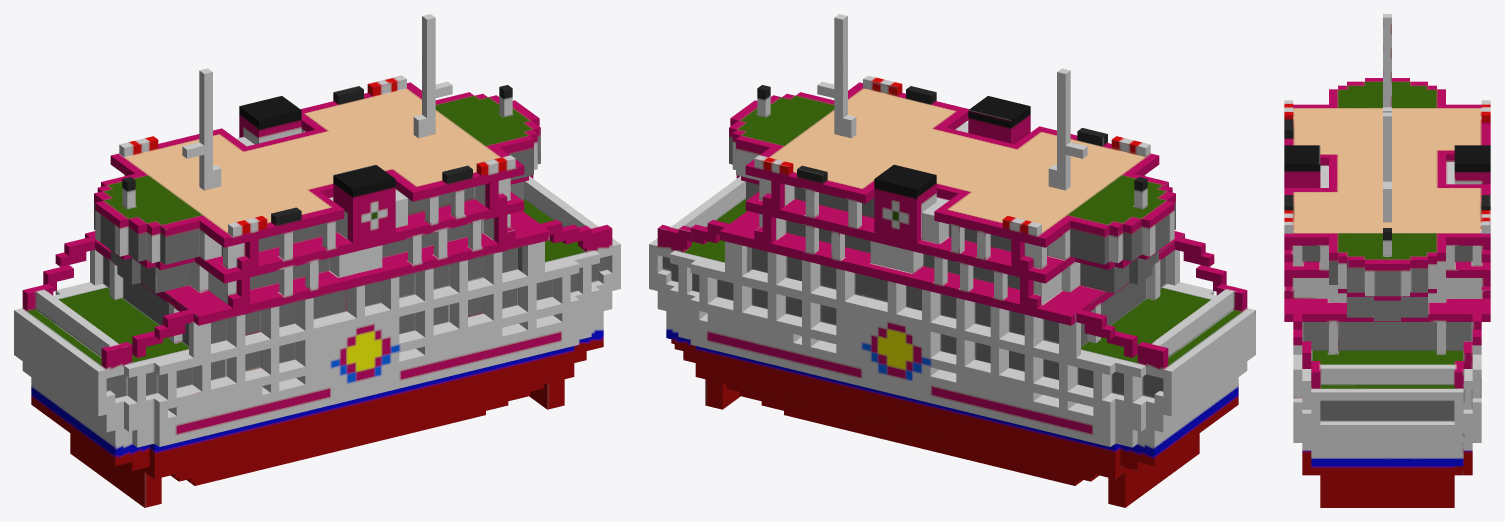
File: sakurajimaferry.glb
3 views of the same model, side by side, from view 1: azimuth 30°, elevation 25°; view 2: azimuth 150°, elevation 25°; view 3: azimuth 270°, elevation 25° (orthographic). The views are drawn at different scales.
Visible parts, largest first — view 1: sakurajimaferry; view 2: sakurajimaferry; view 3: sakurajimaferry.
Boxes of the visible parts, x1=… form: sakurajimaferry: x1=14, y1=14, x2=620, y2=507; sakurajimaferry: x1=649, y1=14, x2=1255, y2=507; sakurajimaferry: x1=1284, y1=14, x2=1490, y2=507.
Size of the model in its own units: 1.22 by 0.86 by 0.46.
1 material, 1 textured.
